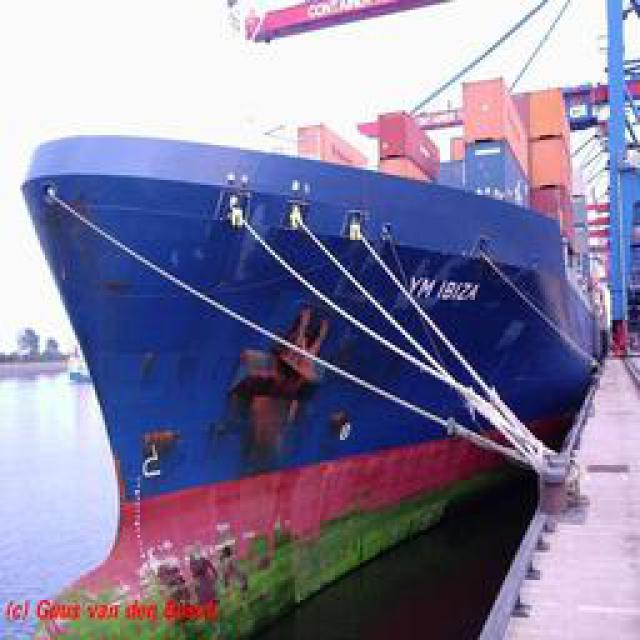Ship: (11, 39, 613, 640)
